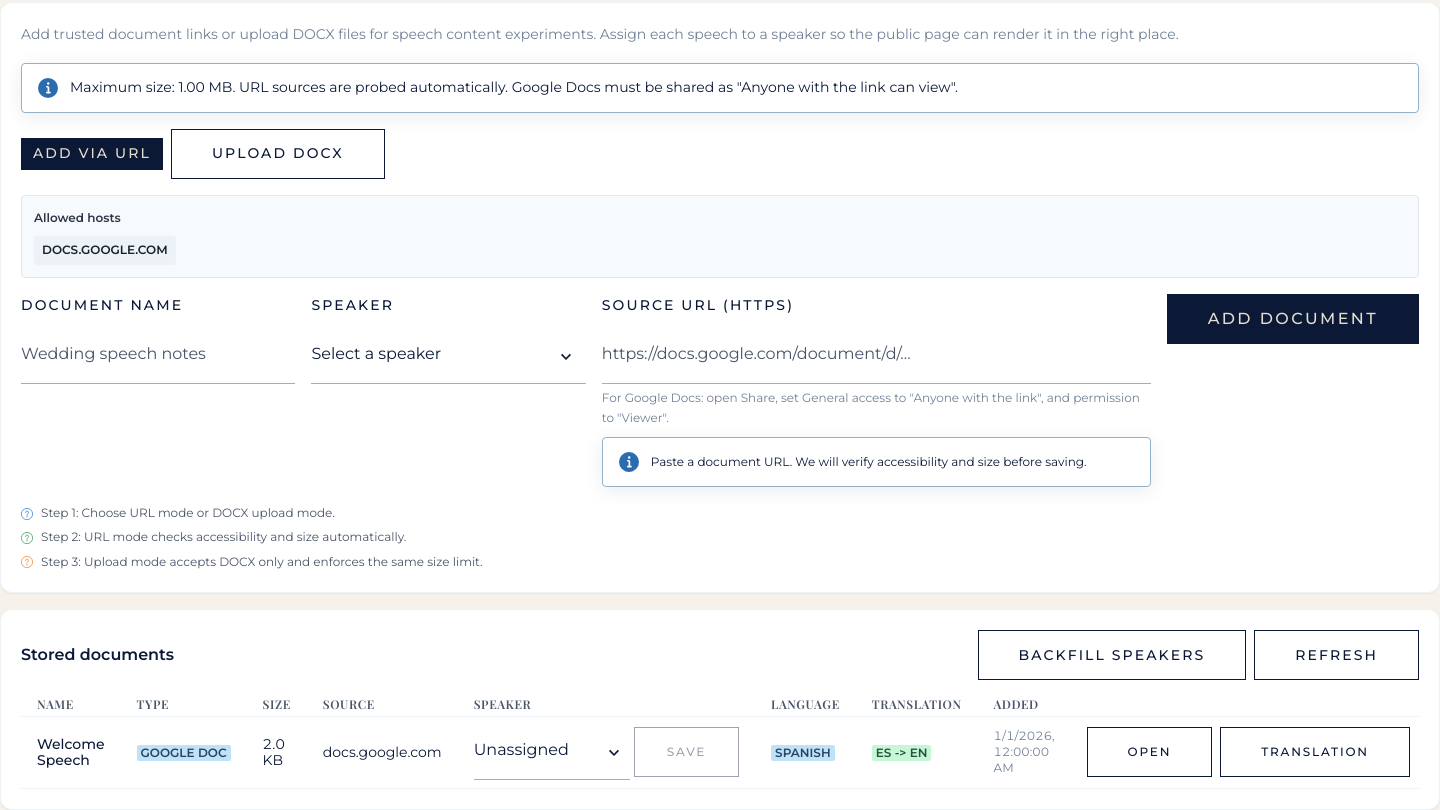
SpeechesDocumentsPanel › opens the translated content for a successful document
(page scrolled)
Click the button "Translation" at (1315,752), box [1220,727,1410,777]
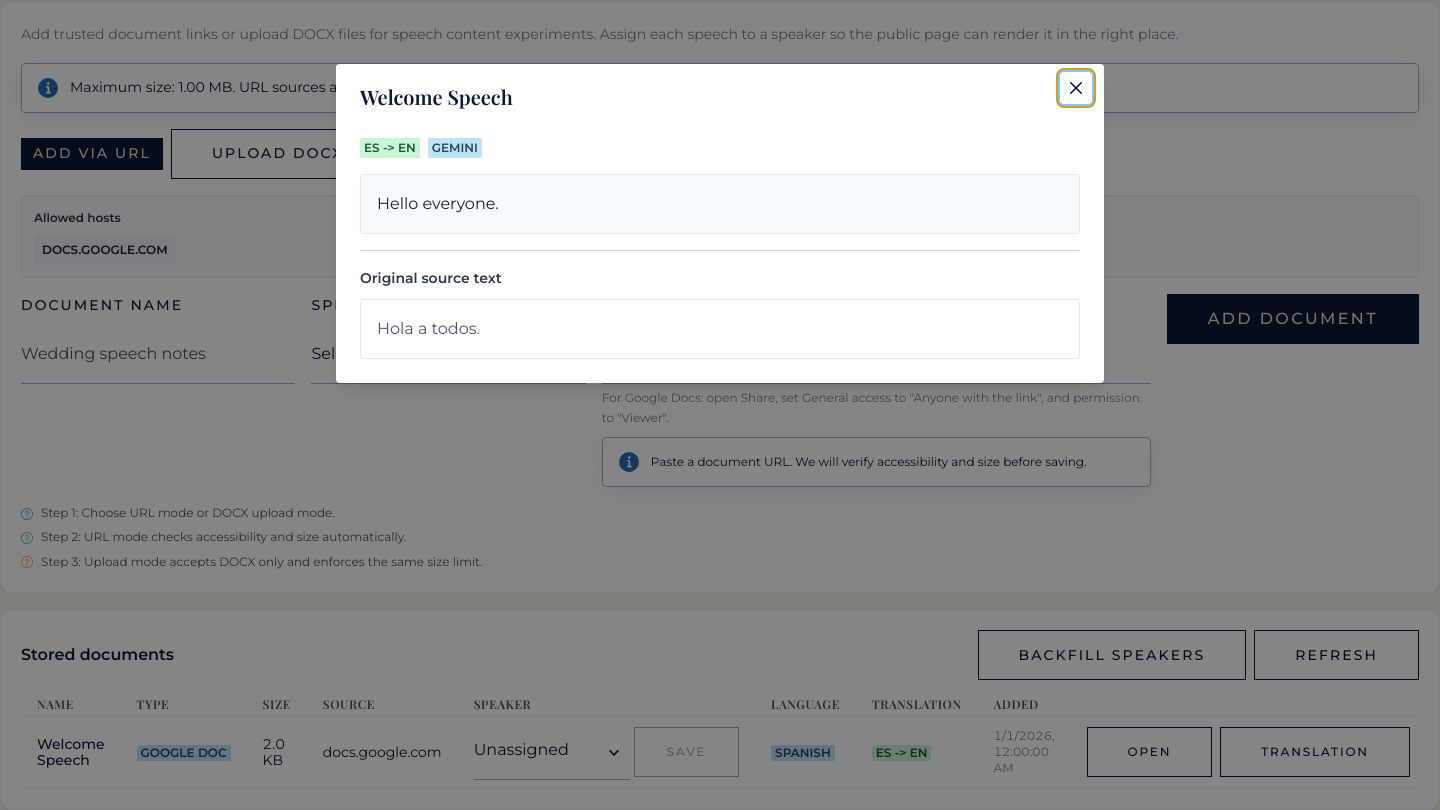
Result: the dialog is shown at [336,64,1104,383]
Result: the text "Hello everyone." is shown at [377,194,499,213]
Result: the text "Hola a todos." is shown at [377,319,480,338]
